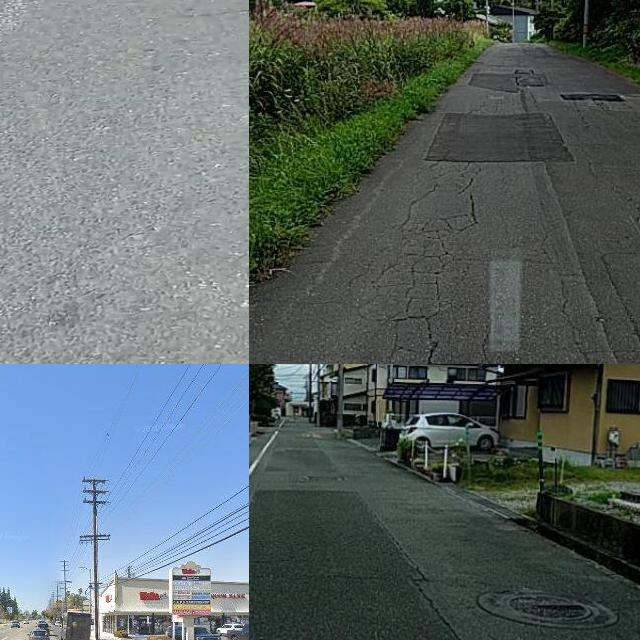Sambungan: (249, 489, 479, 640), (423, 109, 568, 159), (466, 69, 520, 93)
